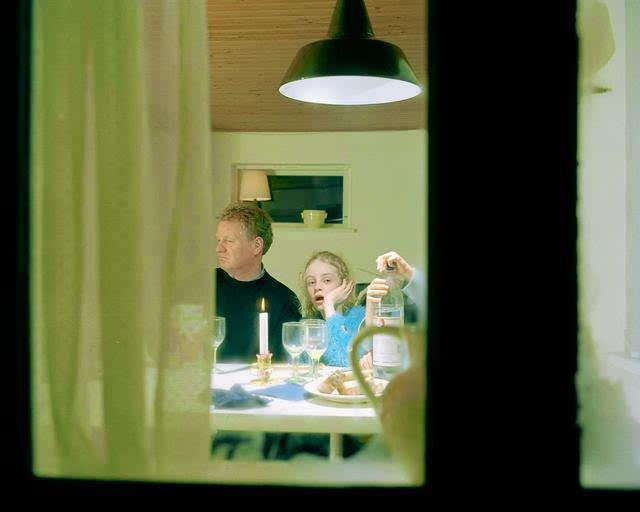face: (213, 219, 263, 270), (303, 260, 343, 308)
specialarea: (312, 281, 329, 290), (215, 238, 228, 249)
